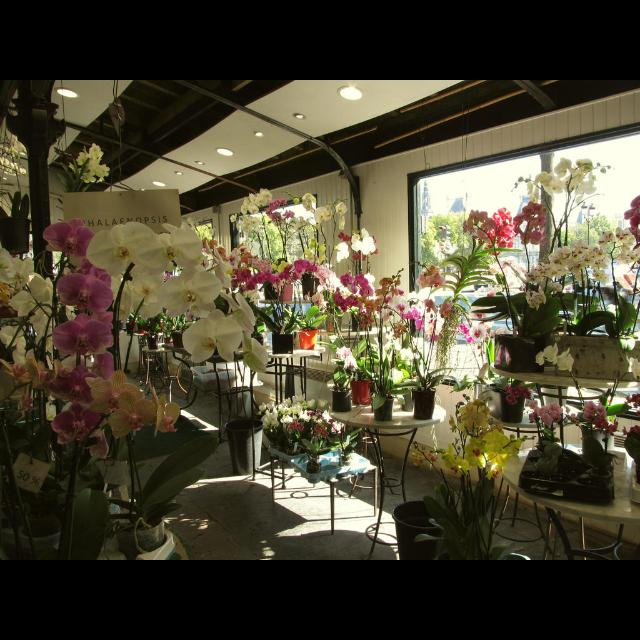Flower: (1, 176, 640, 502), (59, 273, 112, 309)
